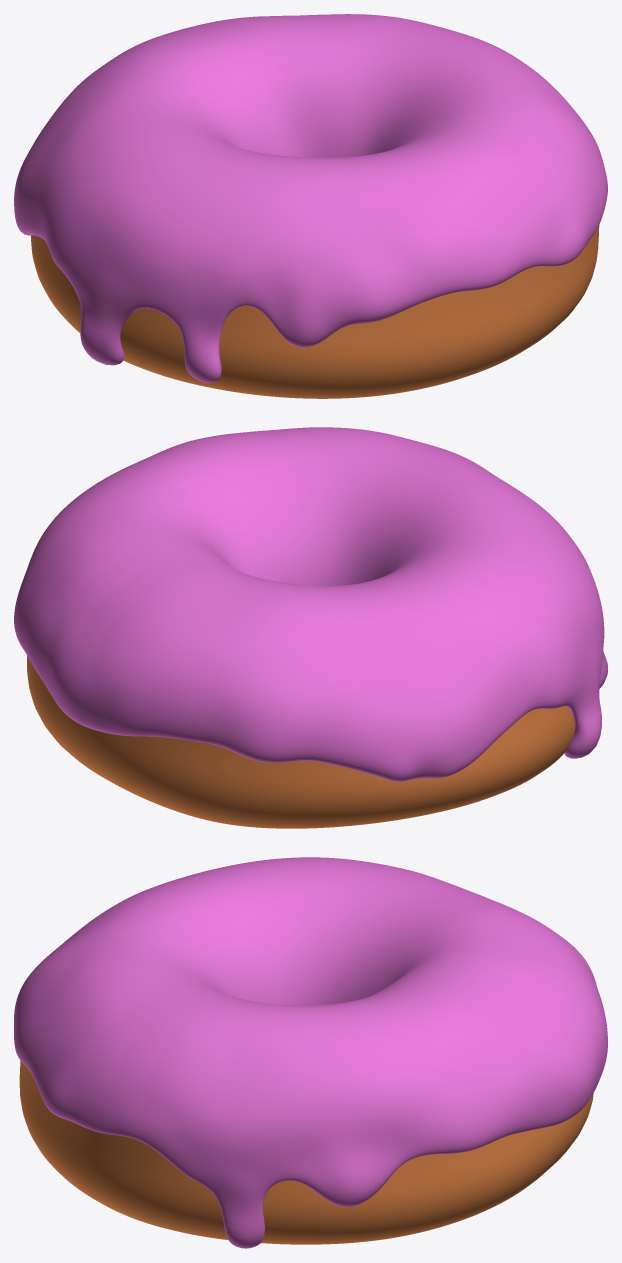
Rendered from donut.glb.
The picture shows the model from 3 angles, top to bottom: view 1: azimuth 30°, elevation 25°; view 2: azimuth 150°, elevation 25°; view 3: azimuth 270°, elevation 25°; orthographic projection. The views are drawn at different scales.
Parts seen in each view (by area): view 1: Icing, Dough; view 2: Icing, Dough; view 3: Icing, Dough.
Part boxes in pixels (x1,y1,x2,y2): Icing: (14, 14, 607, 383); Dough: (31, 225, 599, 398); Icing: (14, 427, 607, 781); Dough: (27, 655, 574, 828); Icing: (14, 857, 607, 1248); Dough: (19, 1060, 593, 1244).
Size of the model in its own units: 0.1009 by 0.0412 by 0.1013.
